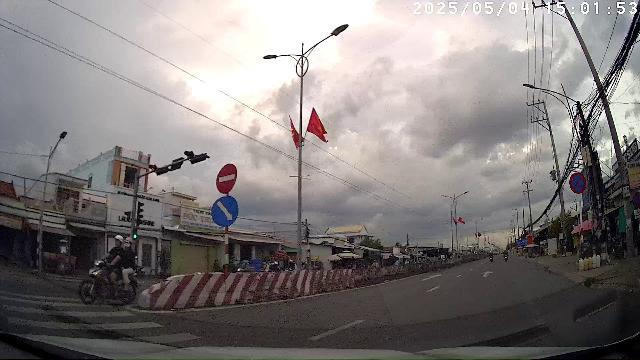102-cam-di-nguoc-chieu: (216, 162, 238, 194)
130-cam-dung-va-do-xe: (570, 172, 586, 194)
302a-huong-phai-di-vong-chuong-ngai-vat-1: (211, 196, 239, 226)
